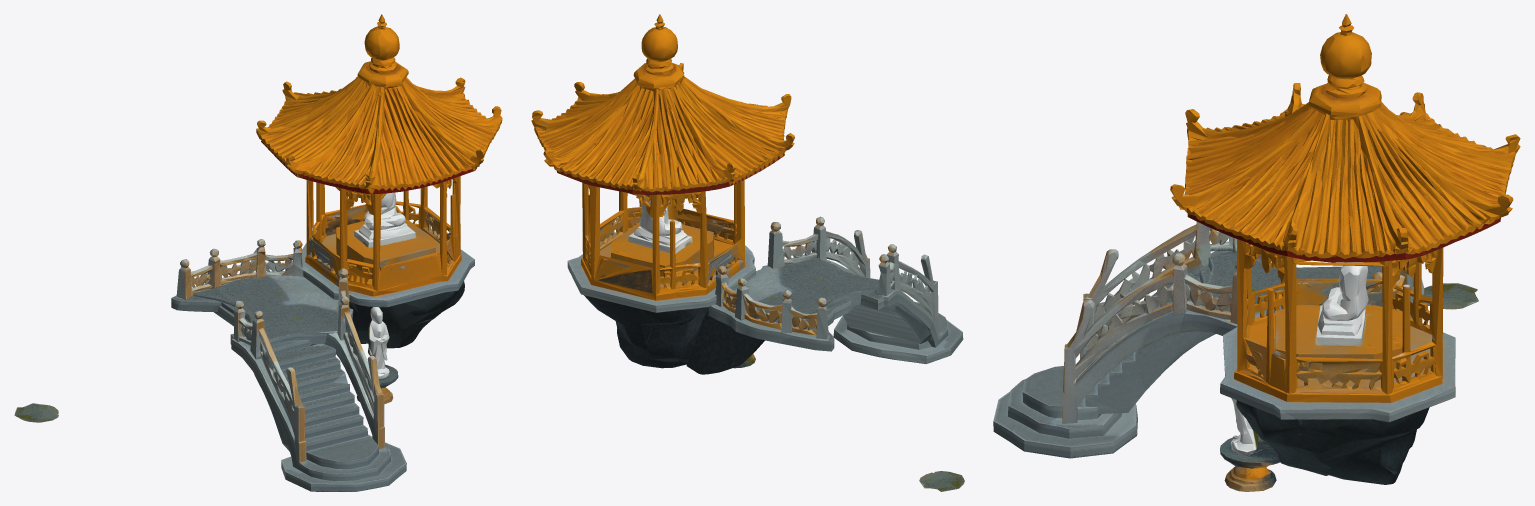
The model's file is hon-non-bo-thien-tinh.glb.
3 renders of one model, left to right at view 1: azimuth 30°, elevation 25°; view 2: azimuth 150°, elevation 25°; view 3: azimuth 270°, elevation 25°, orthographic. The views are drawn at different scales.
Size of the model in its own units: 1.9 by 1.48 by 1.42.
Materials: 1 (1 with a texture image).
